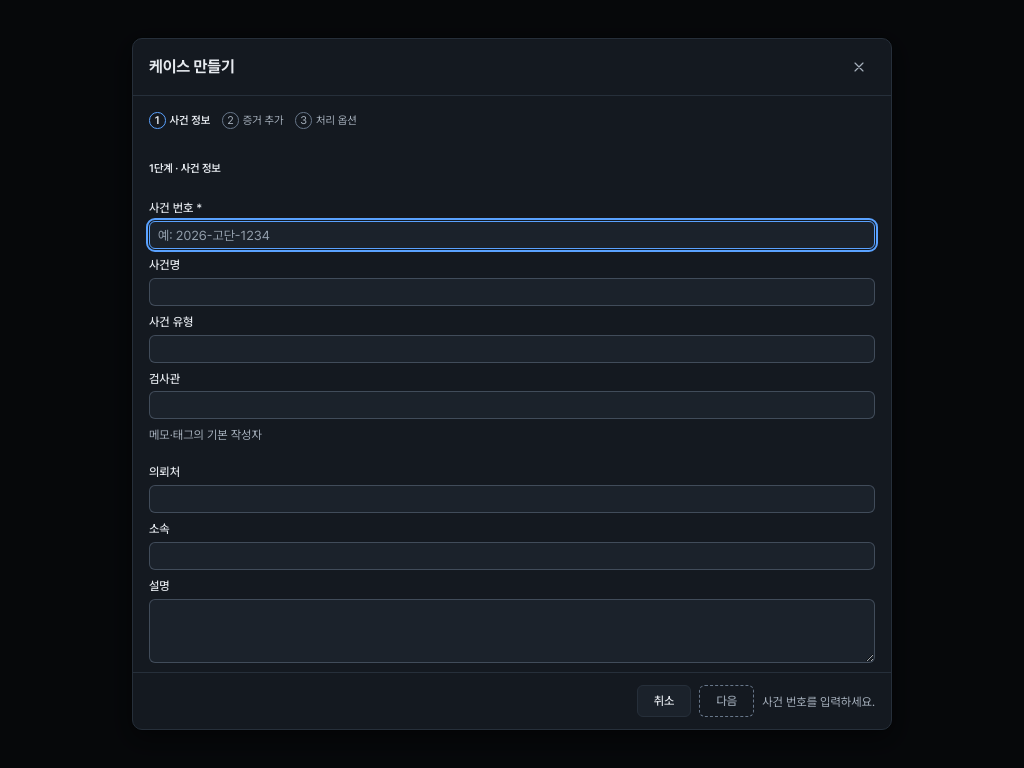
Test: review 12: Enter moves on › Enter in a field goes to the next step; IME composition Enter does not
In the field labelled "사건 번호": point(512, 235) top-left (149, 221), bottom-right (875, 249), type "2026-1"
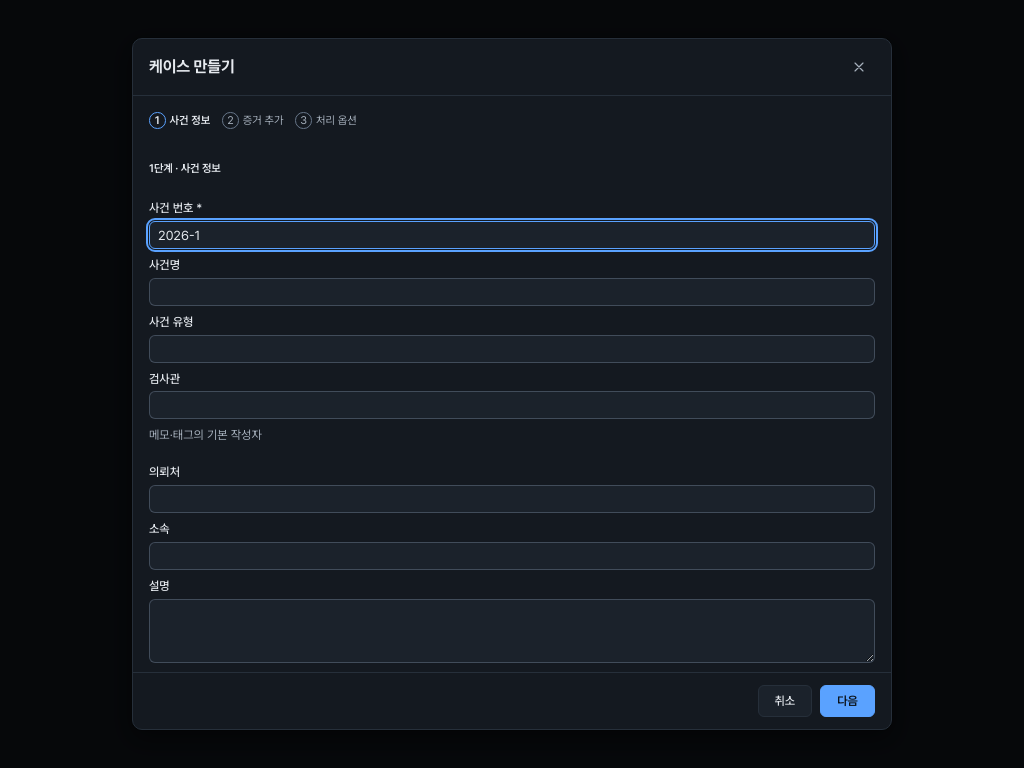
Press Enter in the field labelled "사건 번호", box top-left (149, 221), bottom-right (875, 249)
Expected: the element with test id "wizard-step-info" is shown, top-left (149, 200), bottom-right (875, 672)
Press Enter in the field labelled "사건 번호", box top-left (149, 221), bottom-right (875, 249)
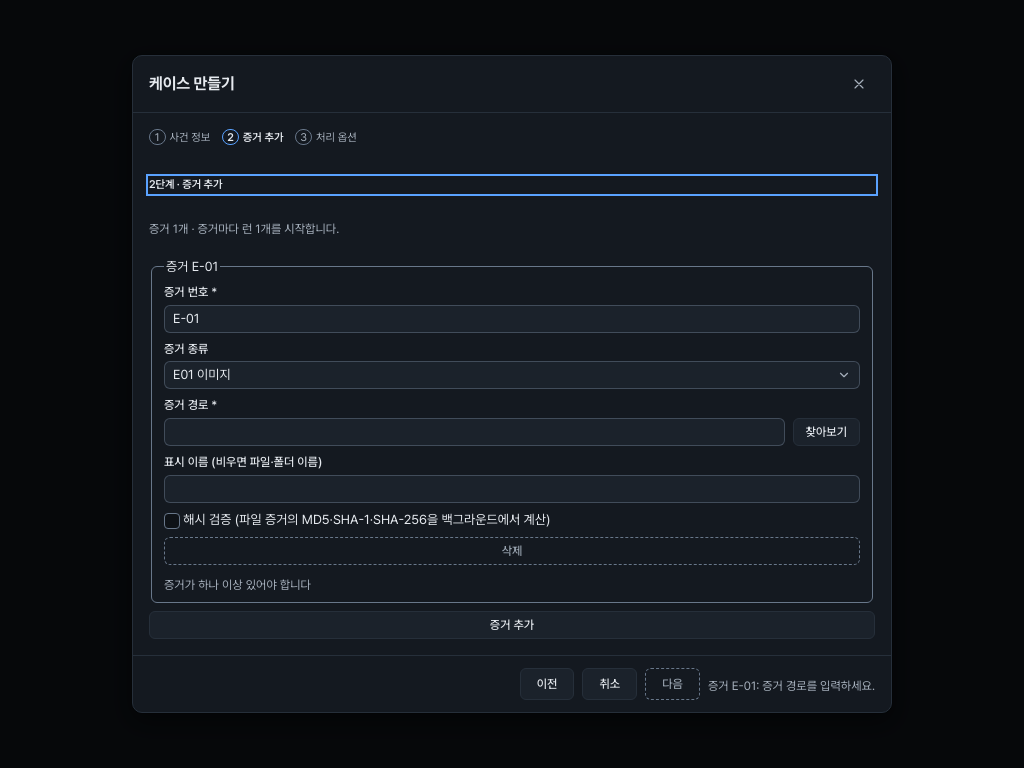
In the field labelled "증거 경로": point(474, 432) top-left (164, 418), bottom-right (784, 446), type "D:\\ev\\a.E01"
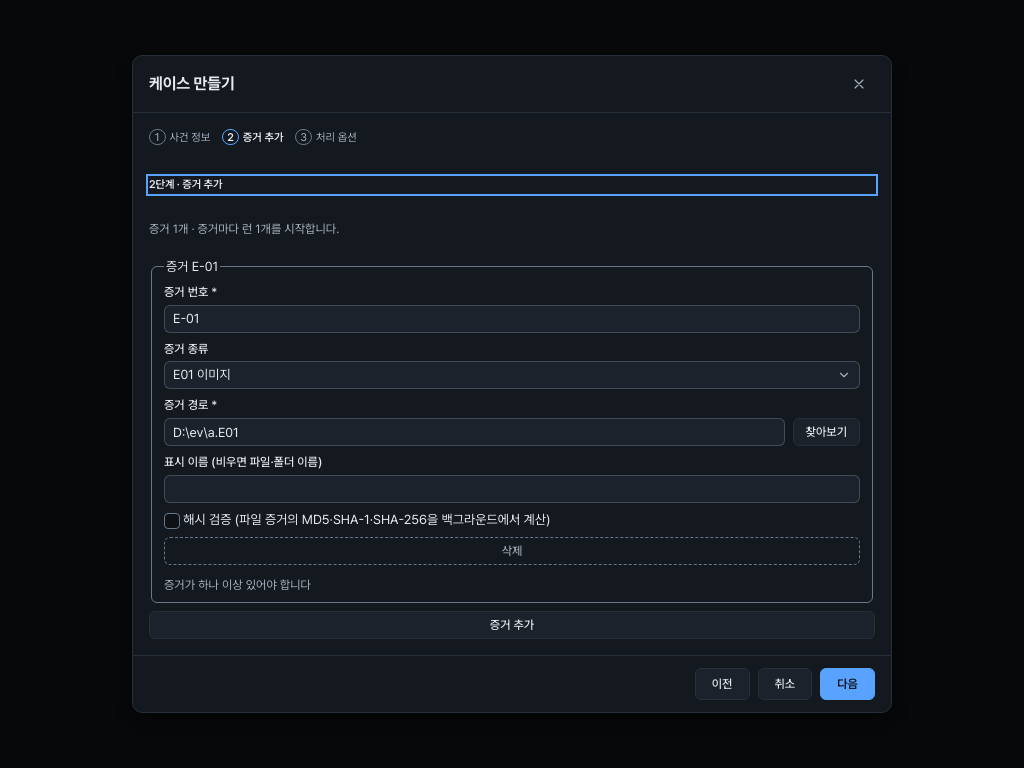
Note: A switch keeps Enter (no step change).
Press Enter in the switch, box top-left (164, 513), bottom-right (180, 529)
Now the element with test id "wizard-step-evidence" is shown, box top-left (149, 217), bottom-right (875, 639)
Press Enter in the field labelled "증거 경로", box top-left (164, 418), bottom-right (784, 446)
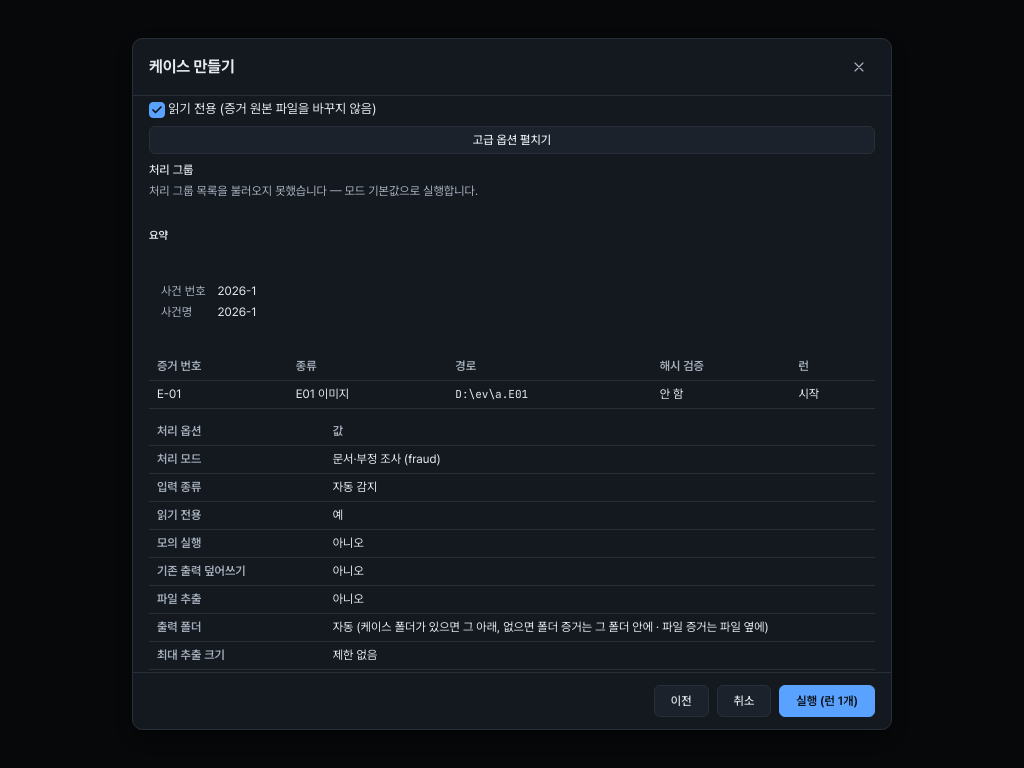
Now the element with test id "wizard-step-options" is shown, box top-left (149, 96), bottom-right (875, 672)
